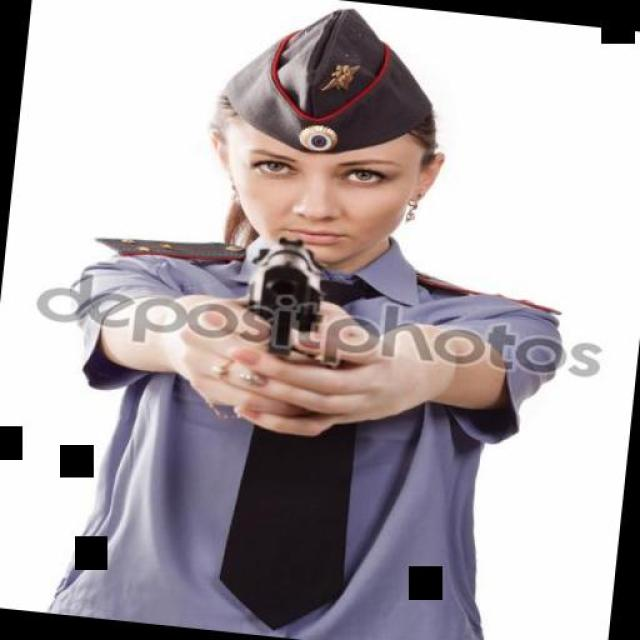gun: (218, 230, 338, 361)
